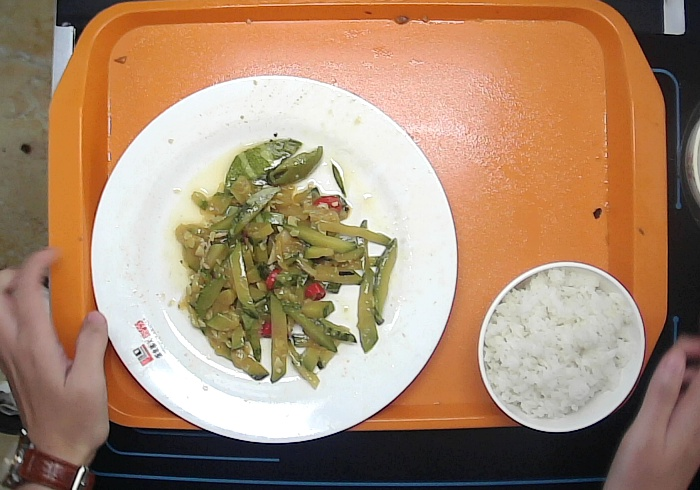ZNLD-Da_Yuan_Pan: (89, 72, 459, 446)
ZNLD-Fan_Wan: (475, 259, 648, 436)
